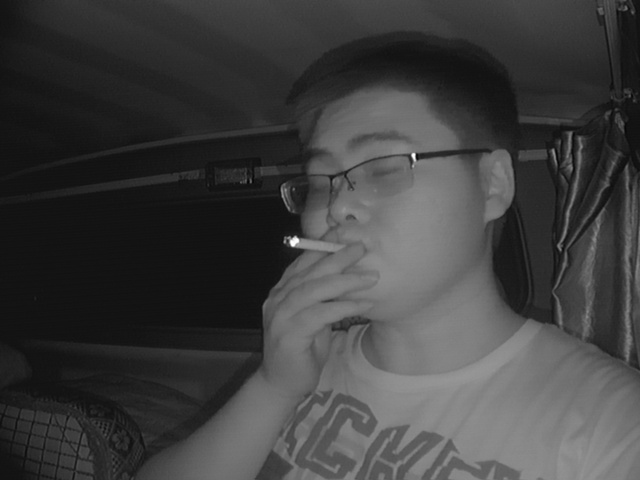hand: (266, 229, 363, 341)
